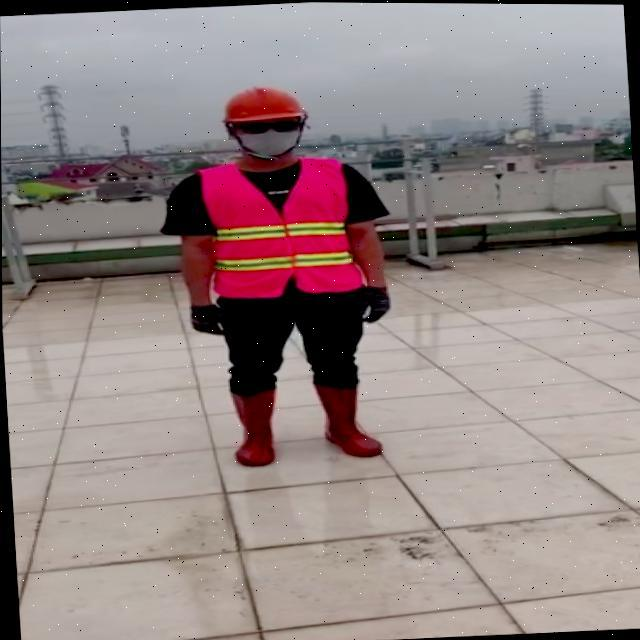goggles_on: (232, 116, 306, 137)
